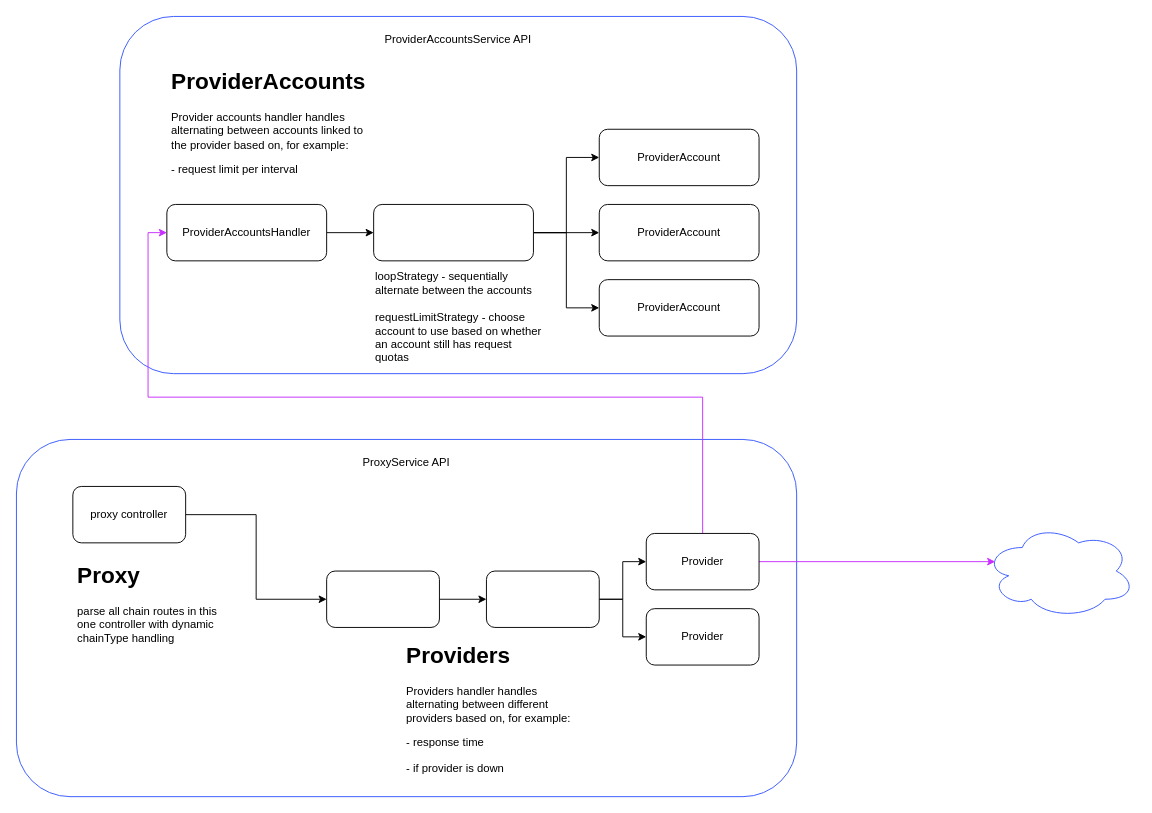
This 1152x813 diagram has some shape labels left out. The box of each missing label's shape, as (x1, y1, x2, y2) in pixels:
Provider Endpoint: (984, 523, 1135, 618)
ProviderAccountsStrategy: (373, 204, 533, 261)
ProvidersHandler: (326, 570, 439, 627)
ProvidersStrategy: (486, 570, 599, 627)
